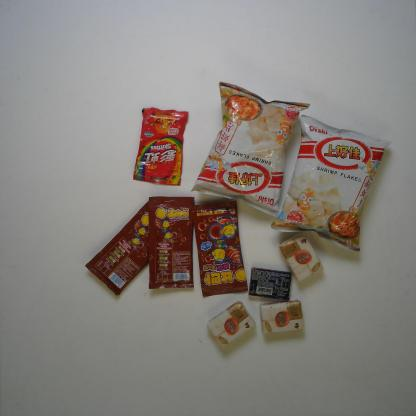Candy: (84, 194, 176, 298), (189, 196, 248, 298), (132, 107, 190, 187), (149, 195, 195, 290)
Gum: (247, 266, 293, 301)
Puffed Food: (188, 80, 312, 218), (269, 114, 391, 252)
Tissue: (204, 301, 256, 347), (279, 233, 325, 283), (258, 299, 307, 335)
